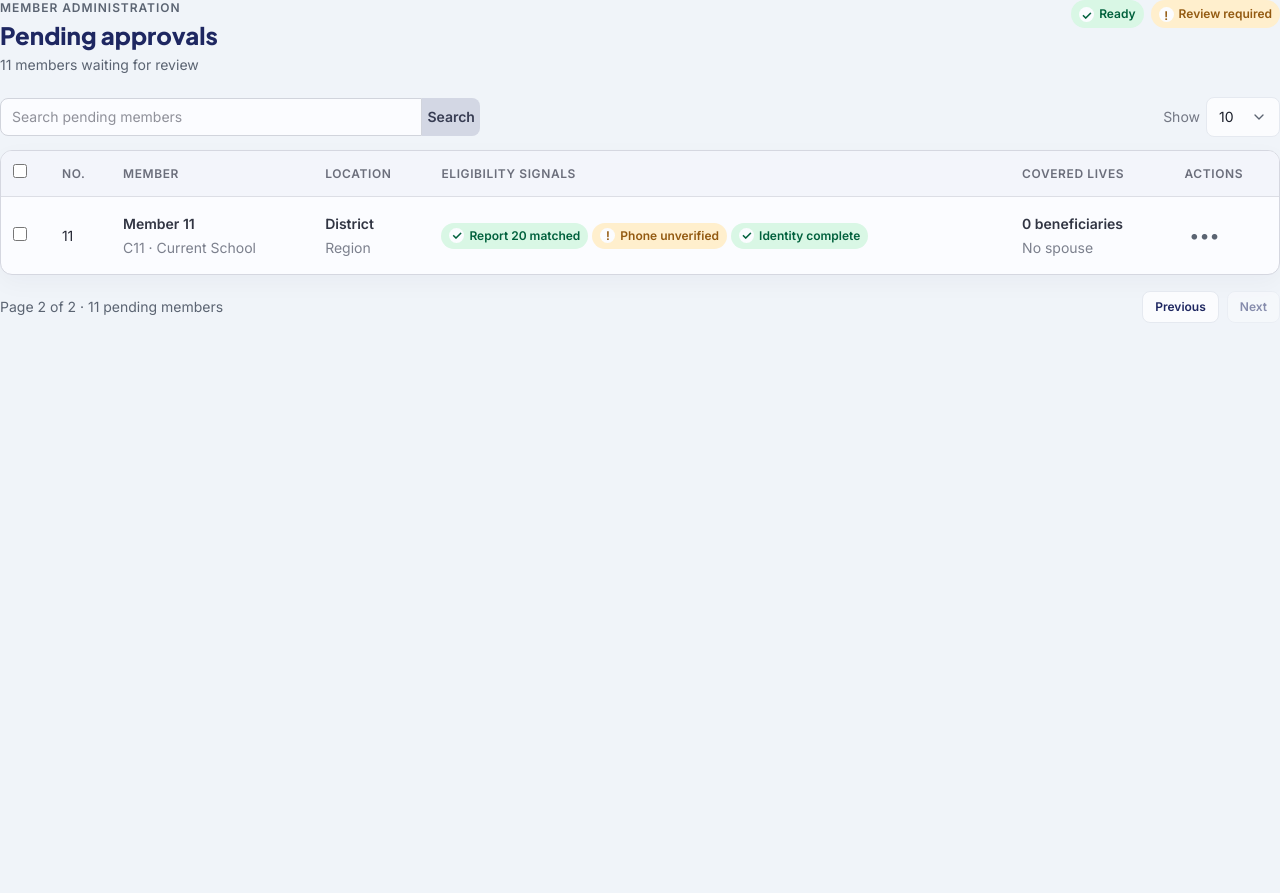
keeps member approval failures inside the dialog and clamps the last page after success
The width and height of the screenshot is (1280, 893).
Click the button named "Actions for Member 11": (1204, 236) [1184, 216, 1224, 256]
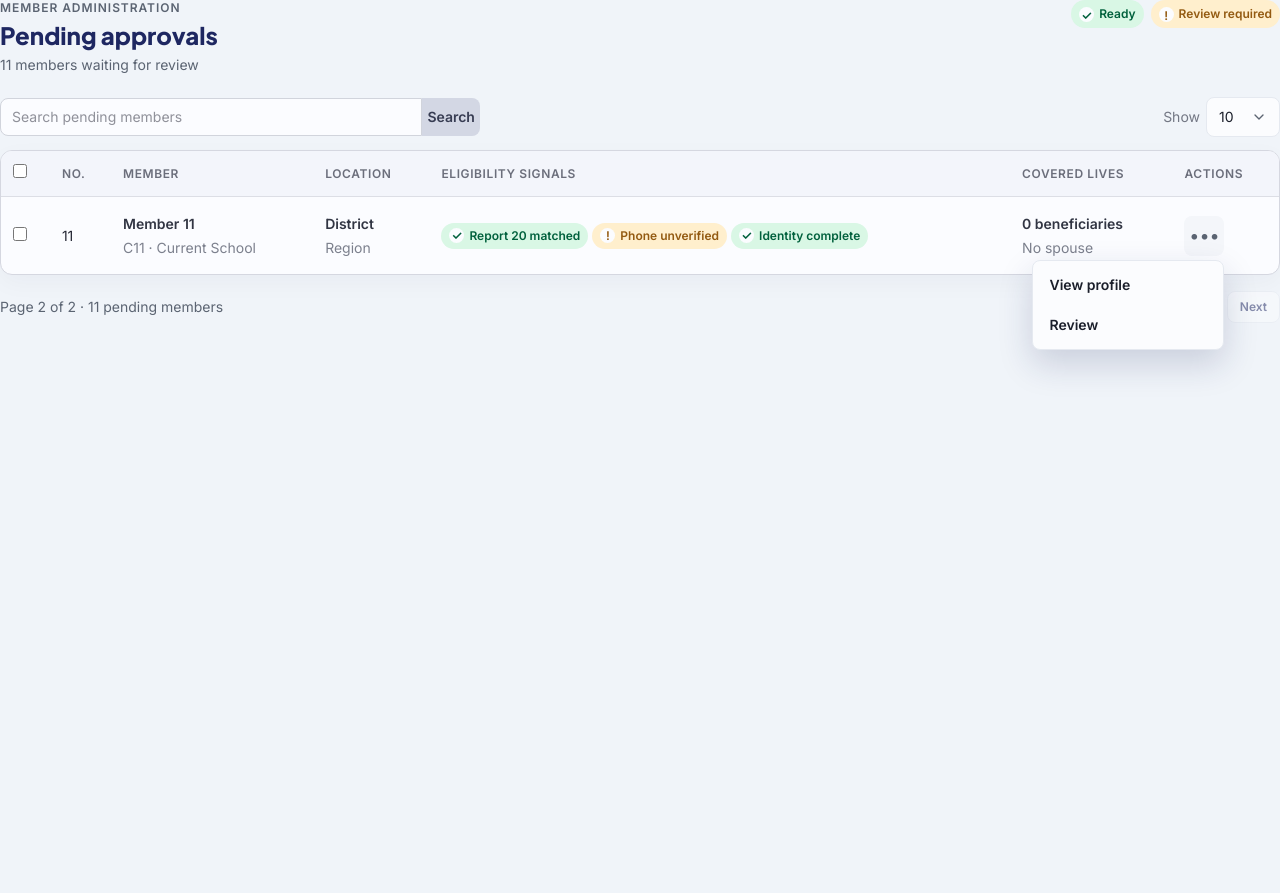
Click the menu item "Review": (1128, 325) [1038, 305, 1220, 345]
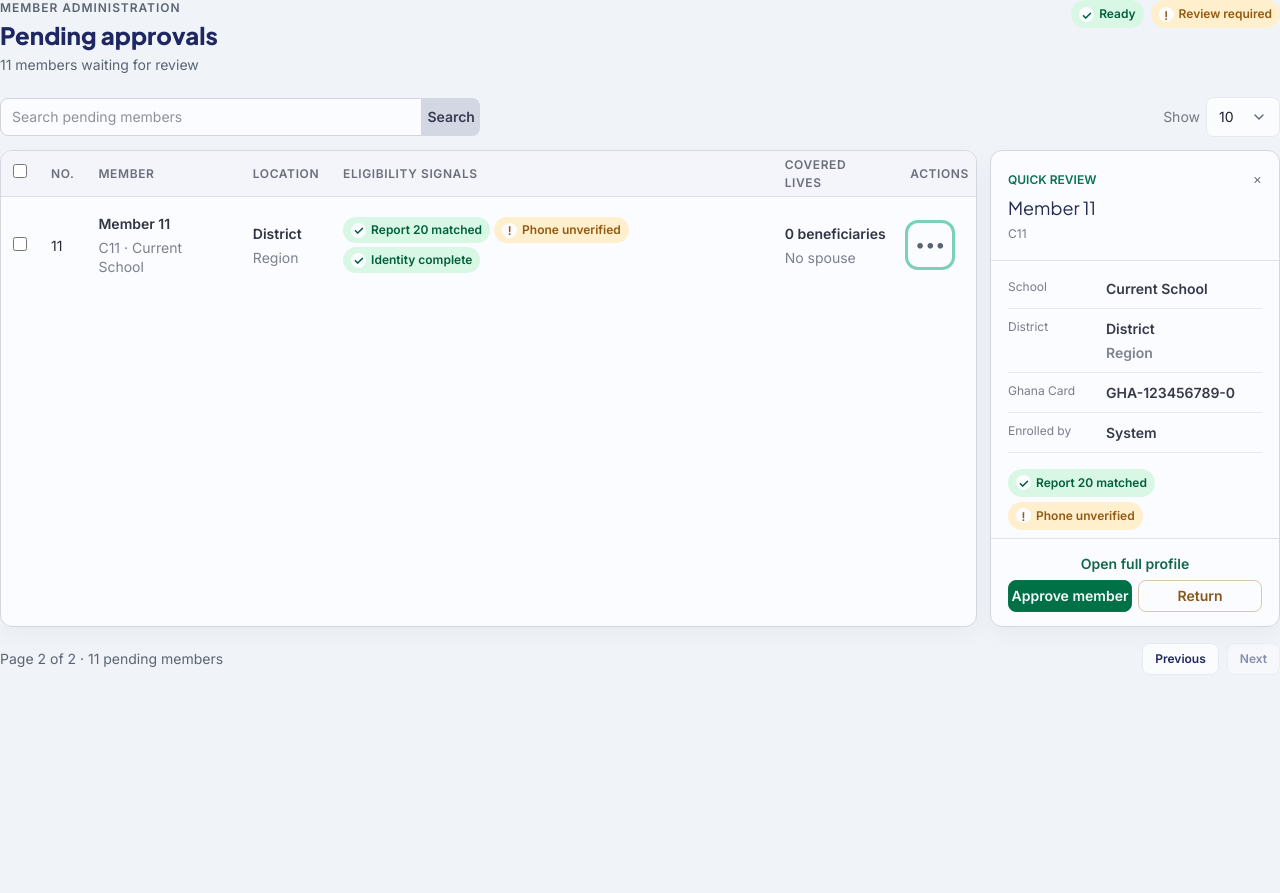
Click the button "Approve member": (1070, 596) [1008, 580, 1132, 612]
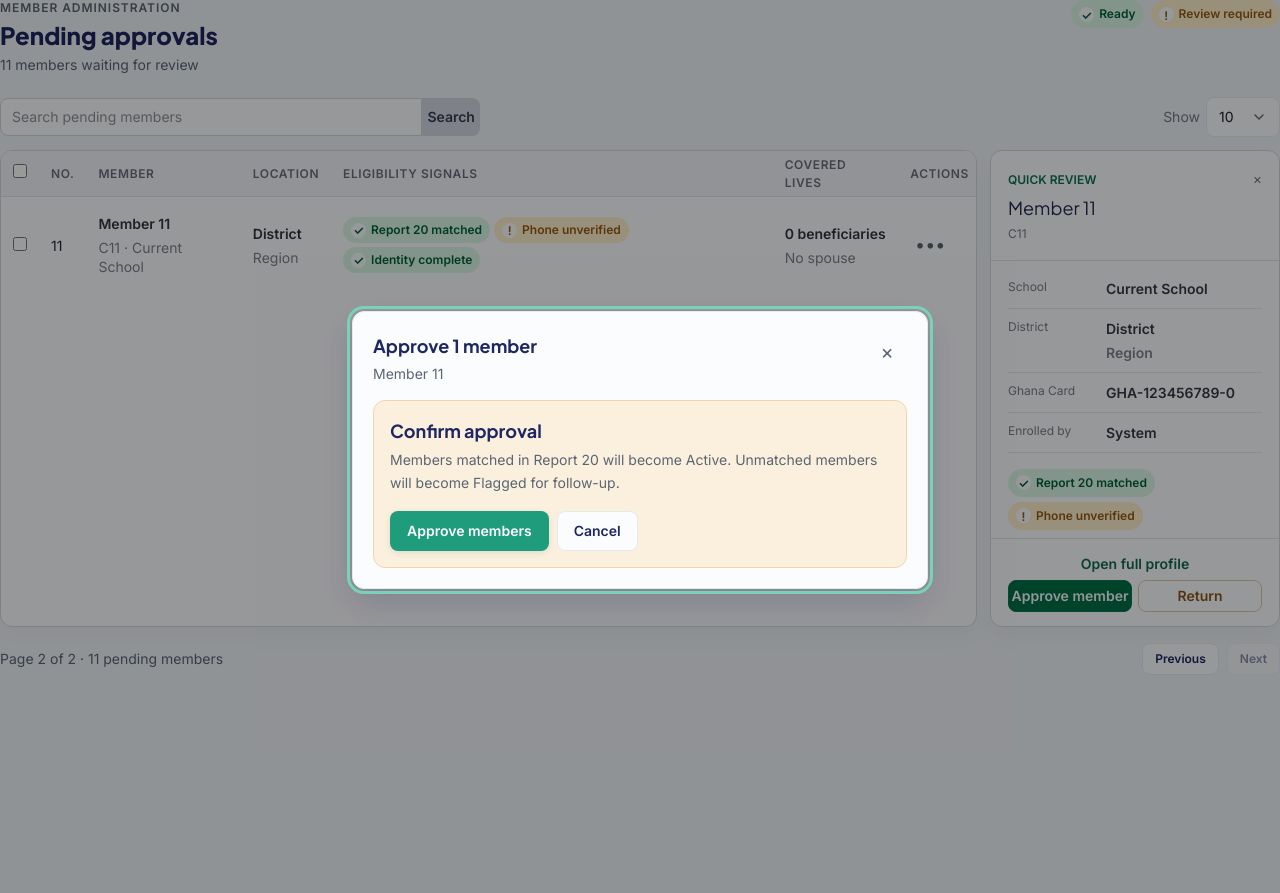
expect the cell reads "11": met, box [51, 237, 62, 254]
expect the list item "Member 11" is shown: met, box [373, 365, 443, 382]
Click the button "Approve members": (469, 531) [390, 511, 549, 551]
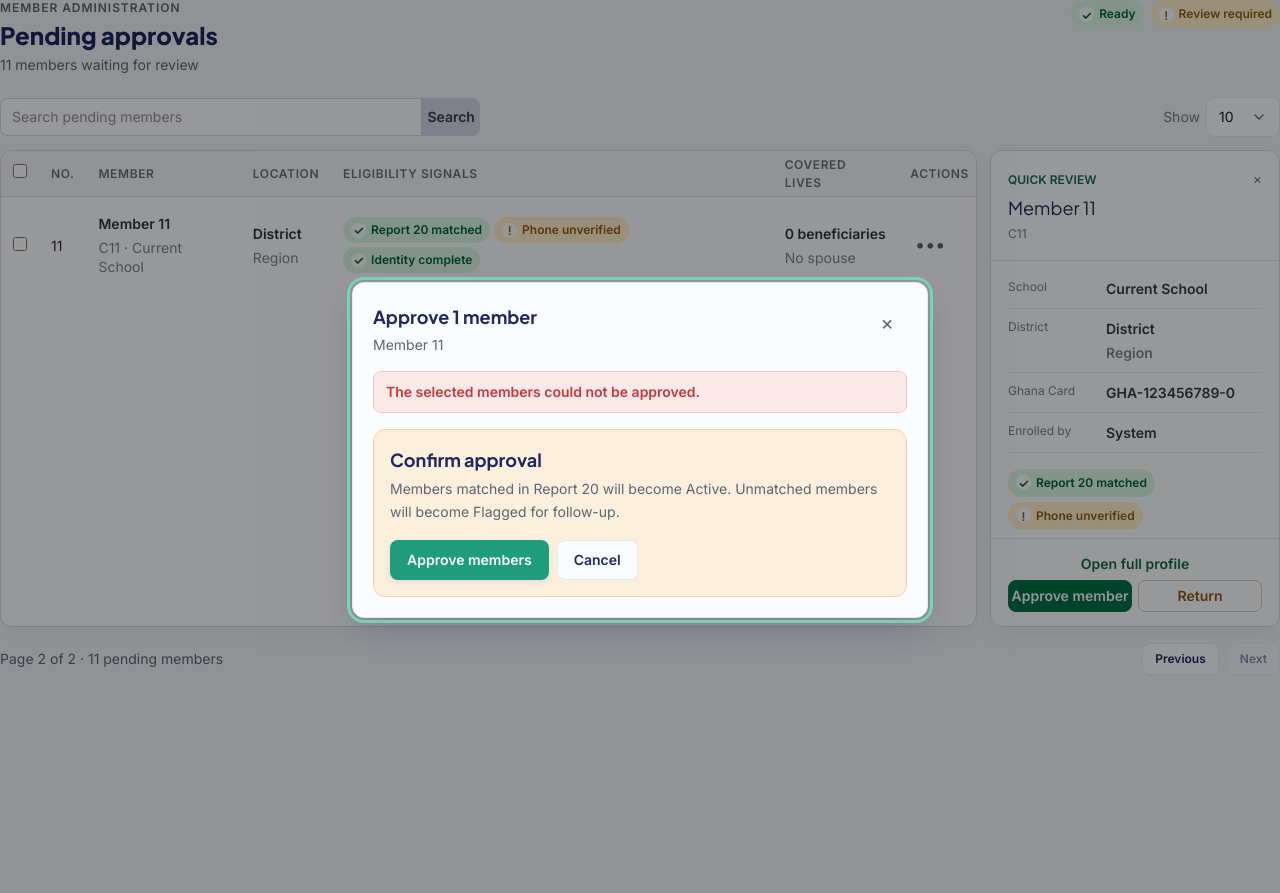
expect the message shows "could not be approved": met, box [386, 383, 700, 400]
Click the button "Approve members": (469, 560) [390, 540, 549, 580]
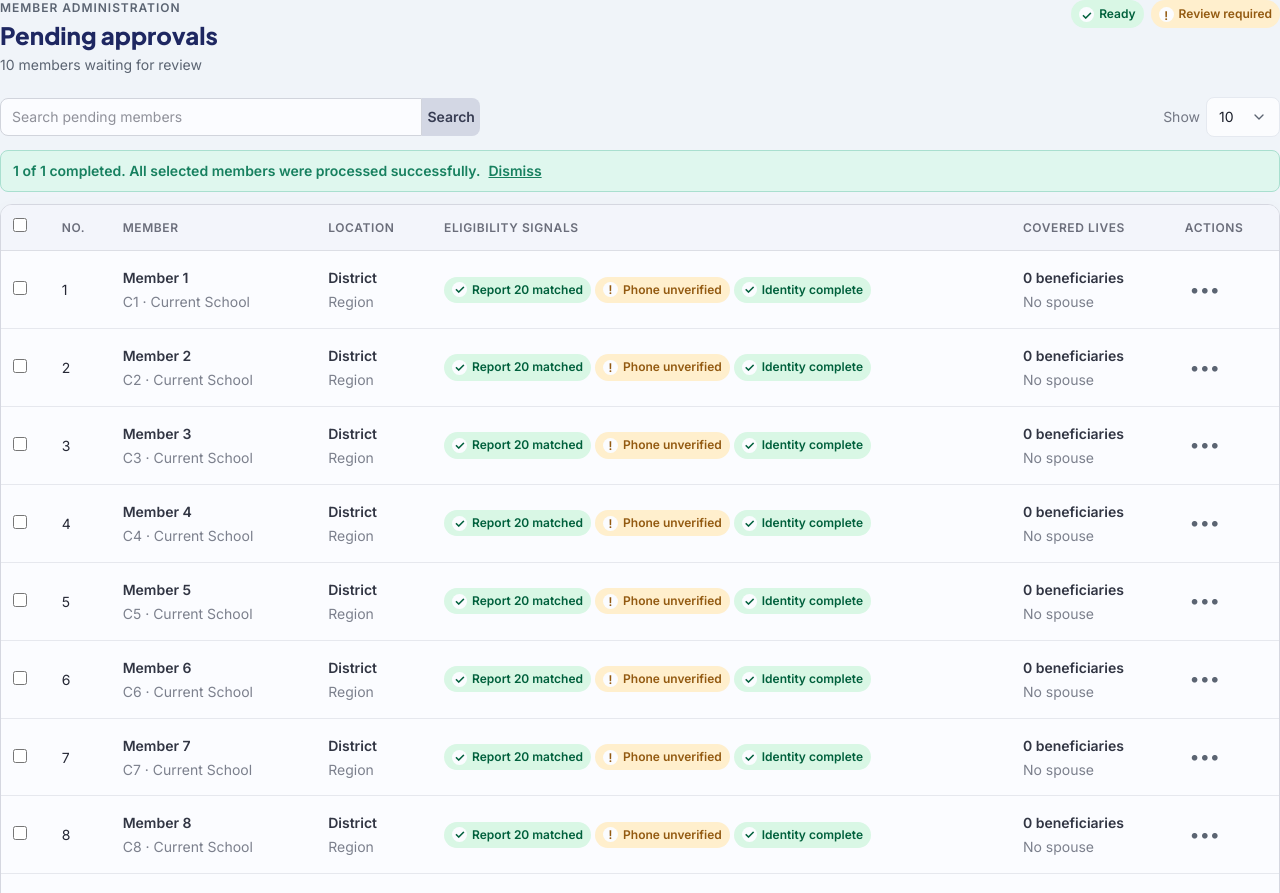
expect the button named "Actions for Member 1" is shown: met, box [1185, 270, 1225, 310]
expect the dialog is gone: met
expect the button "Next" is gone: met
